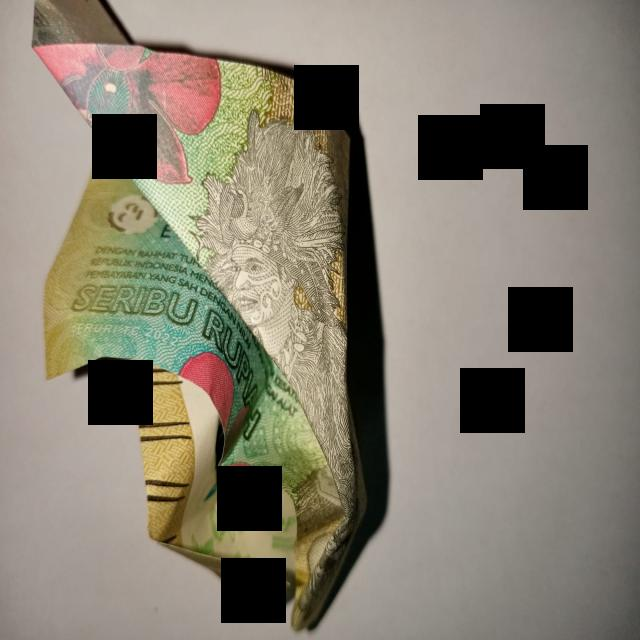seribu rupiah: (34, 0, 365, 630)
